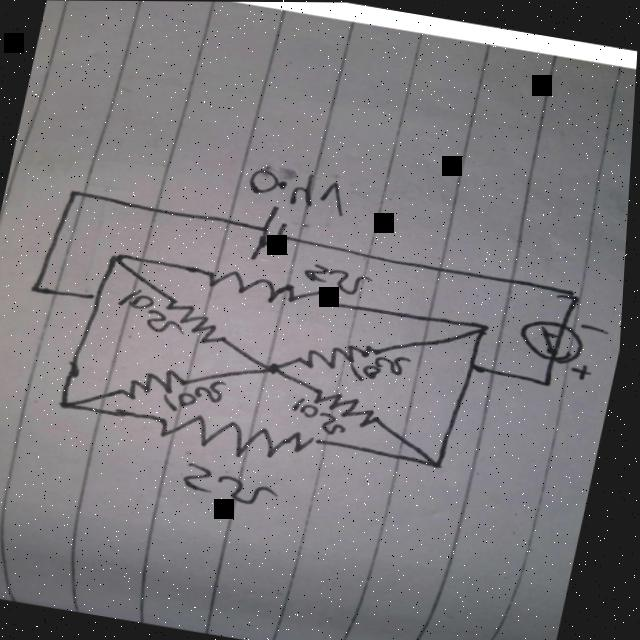junction: (59, 394, 84, 414), (564, 287, 589, 307), (86, 288, 111, 307), (27, 280, 52, 299), (65, 184, 90, 203), (107, 249, 132, 268), (264, 360, 289, 379), (428, 455, 453, 474), (465, 356, 490, 375), (474, 320, 499, 339), (541, 375, 566, 394)
resistor: (159, 409, 326, 471), (204, 265, 340, 316), (299, 331, 386, 381), (160, 297, 240, 350), (312, 382, 391, 431), (120, 360, 193, 409)
source: (250, 200, 302, 267)
text: (247, 167, 354, 219), (183, 462, 290, 509), (111, 286, 199, 339), (165, 371, 234, 420), (302, 258, 381, 300), (351, 347, 419, 391), (291, 394, 356, 438)
